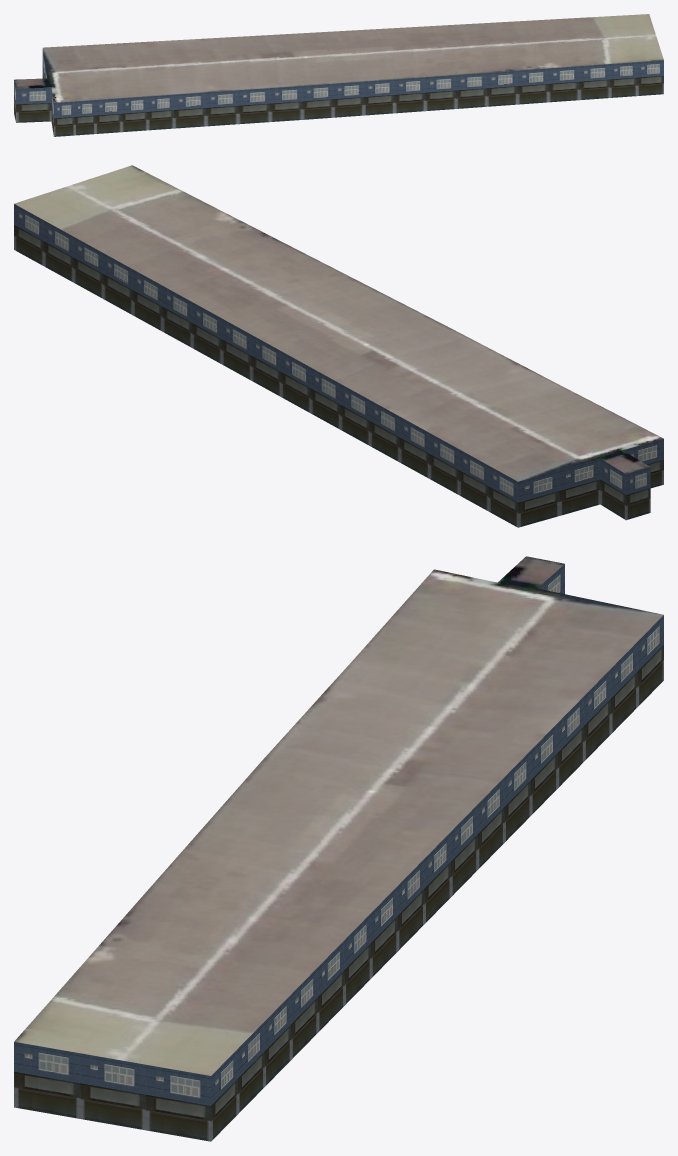
3 views of the same model, one above another, from view 1: azimuth 30°, elevation 25°; view 2: azimuth 150°, elevation 25°; view 3: azimuth 270°, elevation 25° (orthographic). The views are drawn at different scales.
Visible parts, largest first — view 1: SketchUp (×15); view 2: SketchUp (×10); view 3: SketchUp (×5).
Boxes of the visible parts, x1=… form: SketchUp (×15): x1=14, y1=14, x2=663, y2=136; SketchUp (×10): x1=14, y1=165, x2=663, y2=527; SketchUp (×5): x1=14, y1=556, x2=663, y2=1141.
Bounding box in the file's own units: 103 × 54.54 × 6.08.
3 materials, 3 textured.
